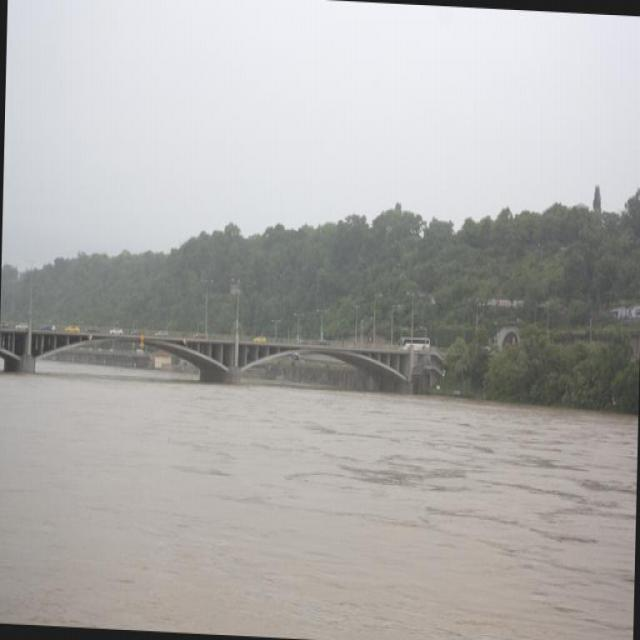flood: (0, 366, 639, 639)
